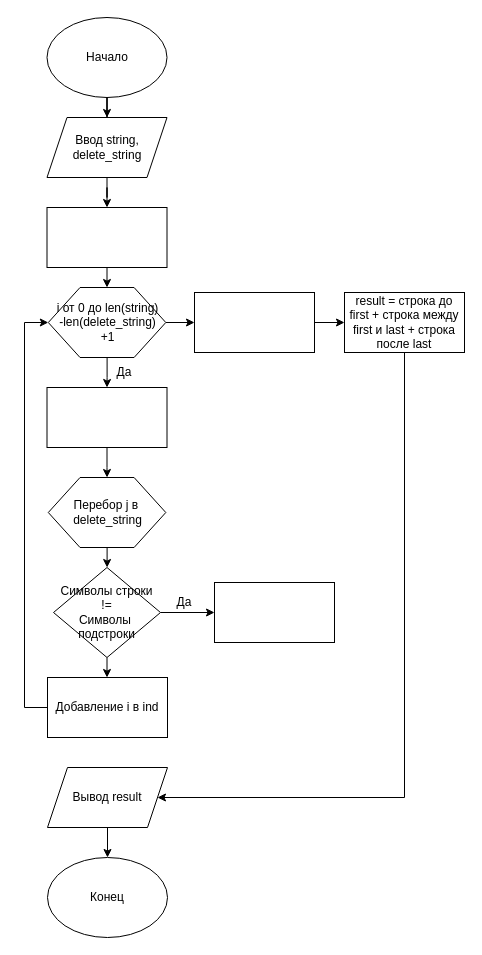
Image size: 482x955. Some labels were removed from this diagram. Here are the shapes that lost their labels. From the top down, the box of each, then its label:
(46, 206, 167, 268): ind = [] индексы вхождения подстроки
(194, 292, 314, 352): first = ind[0] last = ind[-1]
(46, 386, 167, 448): find = True
(214, 582, 334, 642): find = False
